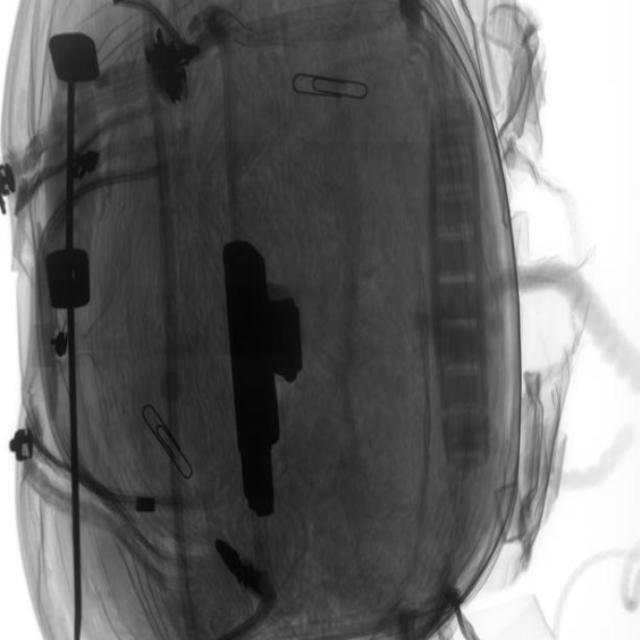GUN: (217, 235, 310, 529)
